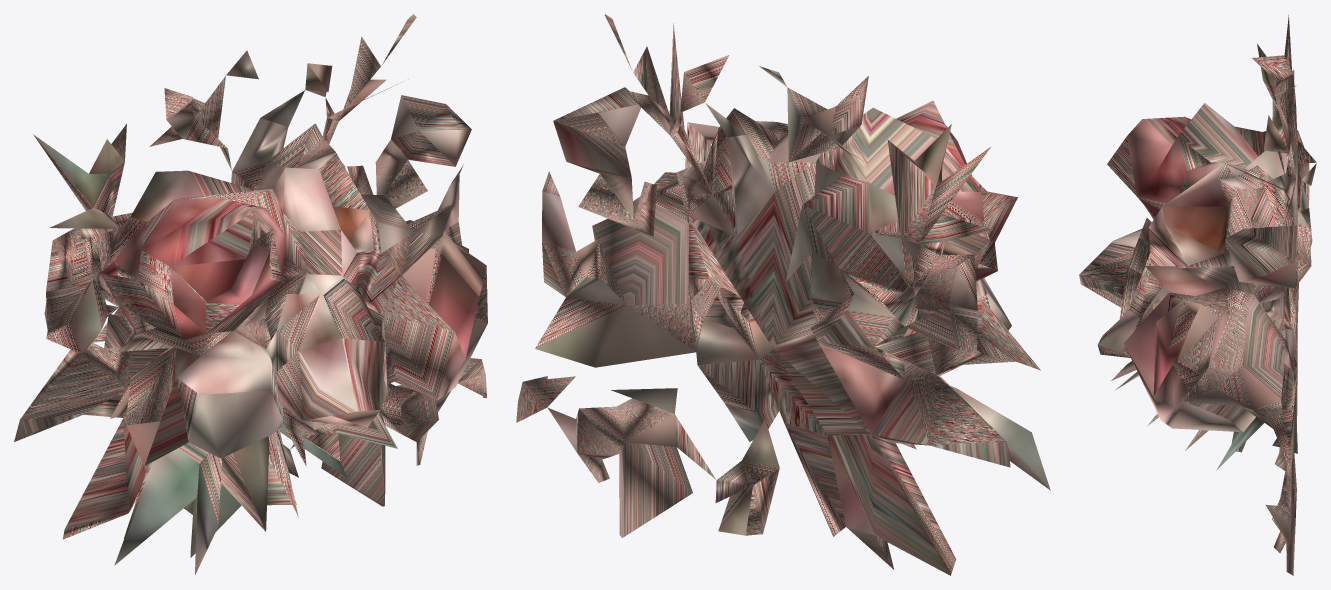
The picture shows the model from 3 angles, left to right: view 1: azimuth 30°, elevation 25°; view 2: azimuth 150°, elevation 25°; view 3: azimuth 270°, elevation 25°; orthographic projection. The views are drawn at different scales.
Visible parts, largest first — view 1: Rose-Bouquet-10-21; view 2: Rose-Bouquet-10-21; view 3: Rose-Bouquet-10-21.
Part boxes in pixels (x1=…): Rose-Bouquet-10-21: x1=14, y1=14, x2=487, y2=574; Rose-Bouquet-10-21: x1=516, y1=14, x2=1050, y2=575; Rose-Bouquet-10-21: x1=1079, y1=15, x2=1316, y2=575.
Bounding box in the file's own units: 0.2897 × 0.2876 × 0.1418.
1 material, 1 textured.
